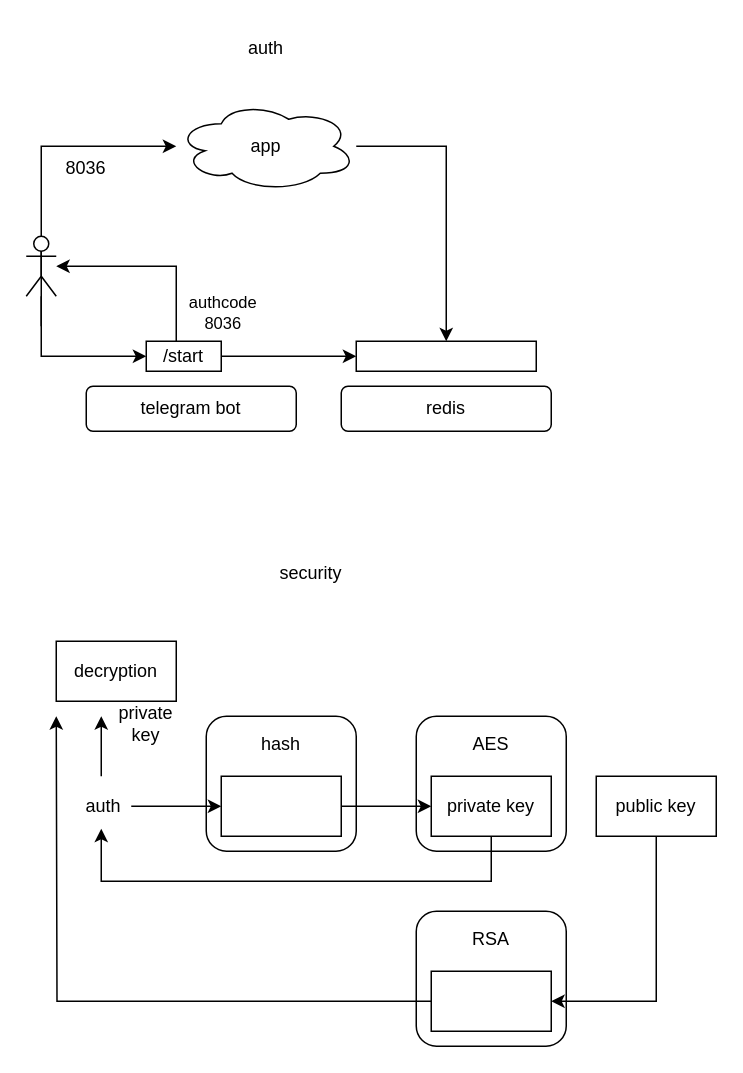
This 743x1073 diagram has some shape labels left out. The shapes that lost their labels are listed below. From the top down, each one's centre as x and y in pixels, then its label:
At pixel 445 355: "{8036:tguser}".
At pixel 280 805: "tgid".
At pixel 490 1000: "data".
